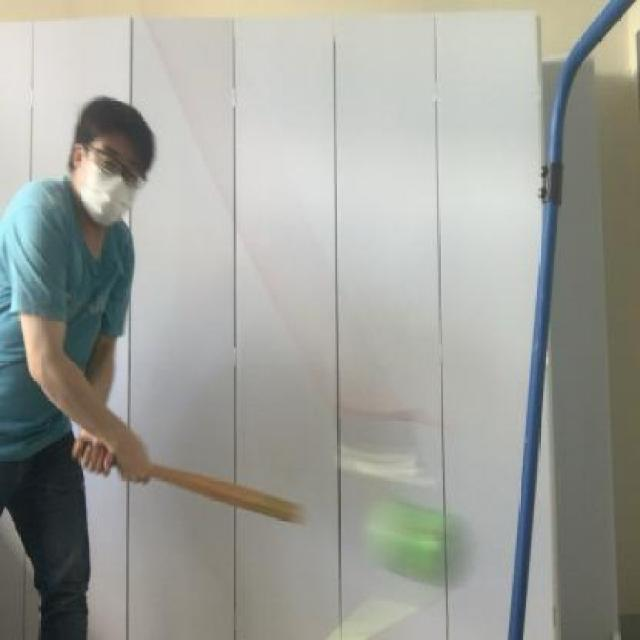baseball: (364, 491, 474, 587)
